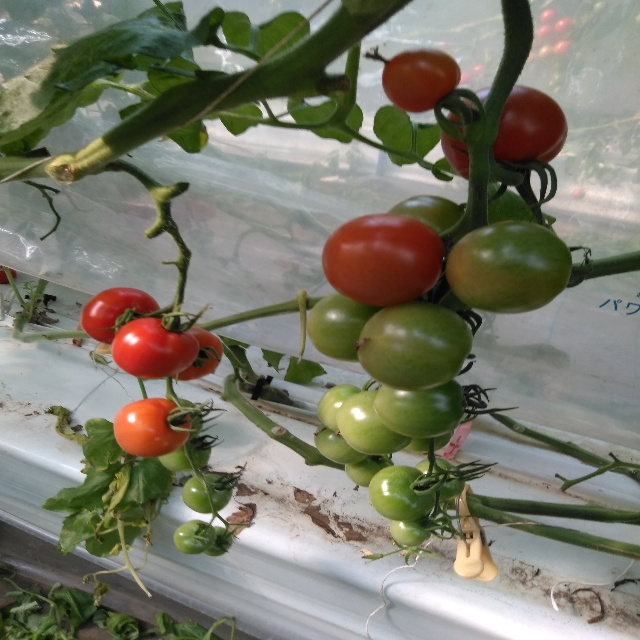l_fully_ripened: (440, 83, 569, 183), (321, 212, 446, 307), (110, 317, 199, 379), (381, 47, 461, 114), (80, 287, 162, 345), (167, 326, 224, 381)
l_green: (446, 220, 573, 314), (356, 300, 474, 391), (307, 291, 388, 363), (373, 379, 466, 438), (384, 194, 470, 257), (336, 390, 415, 456), (369, 465, 438, 522), (317, 385, 364, 435), (314, 424, 371, 465), (415, 457, 466, 501), (157, 434, 212, 472), (181, 474, 233, 514), (344, 455, 394, 487), (173, 519, 216, 554), (168, 398, 204, 438), (389, 517, 433, 547), (404, 430, 455, 453), (203, 526, 232, 556)
l_half_ripened: (114, 397, 192, 458)
